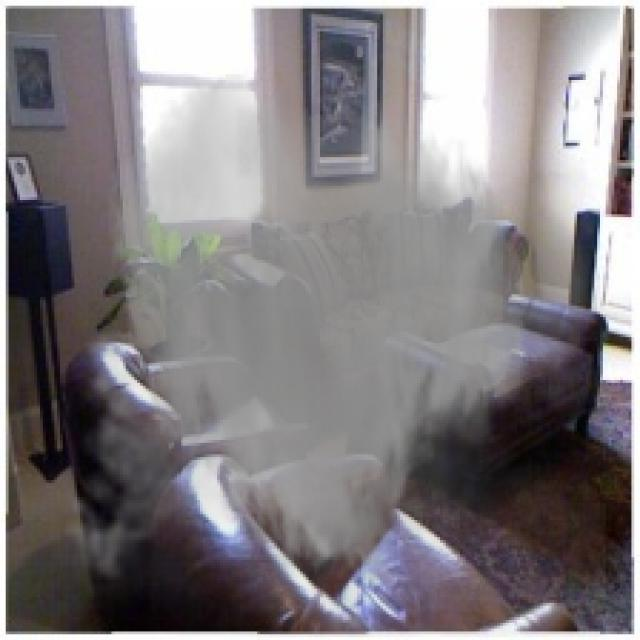smoke: (49, 69, 606, 637)
